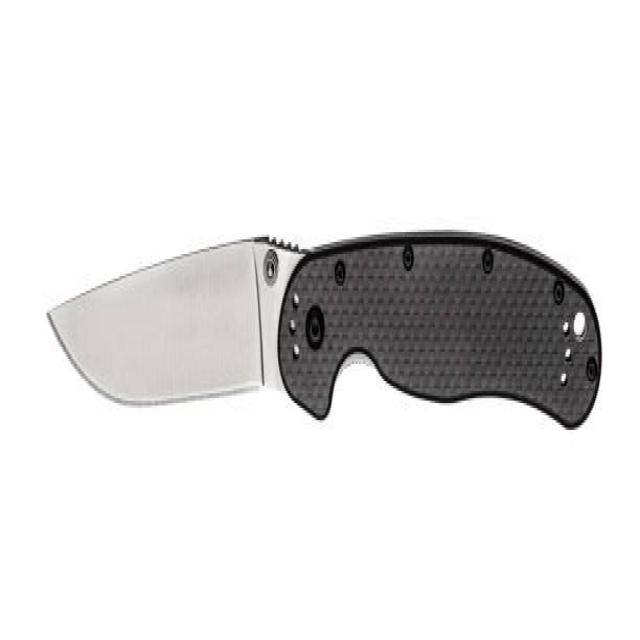knife: (47, 217, 607, 443)
